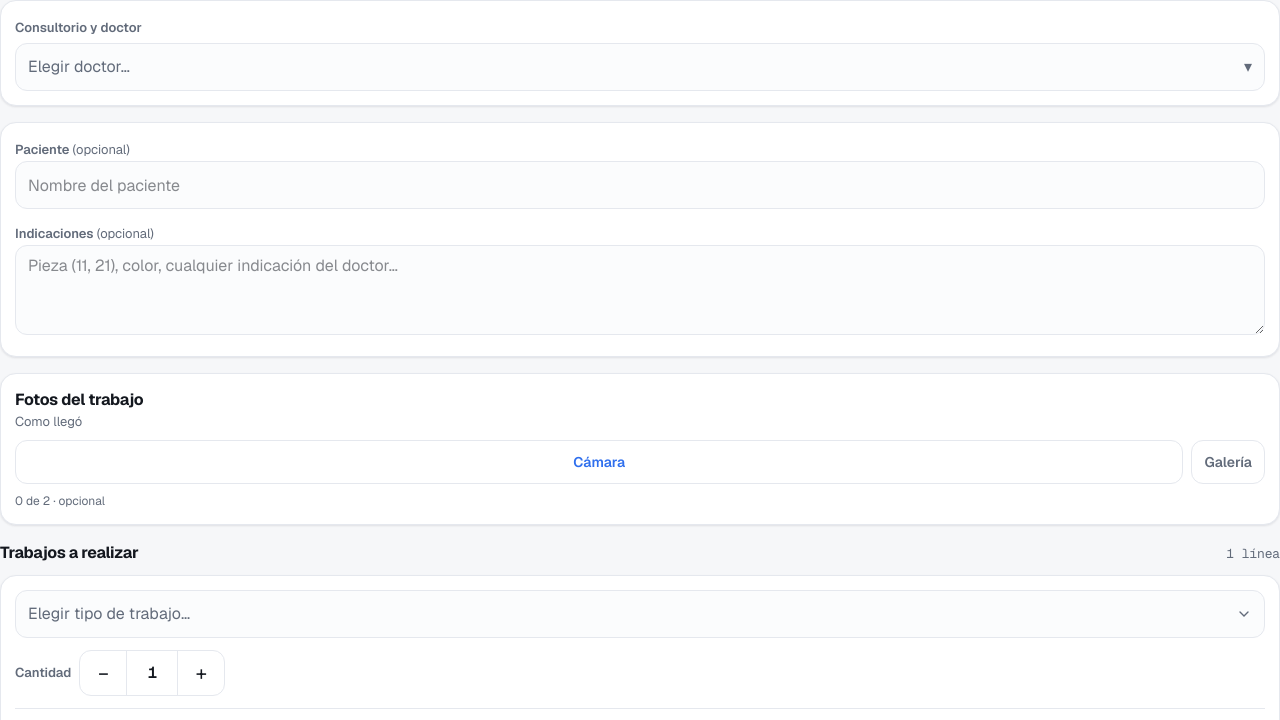
Test: TrabajoForm — elegir doctor › busca, elige y deja el doctor seleccionado
Expected: the element named "doctor_id" is empty, [0,0,1279,106]
Click the button "Elegir doctor… ▾": (79, 66) [15,43,1265,91]
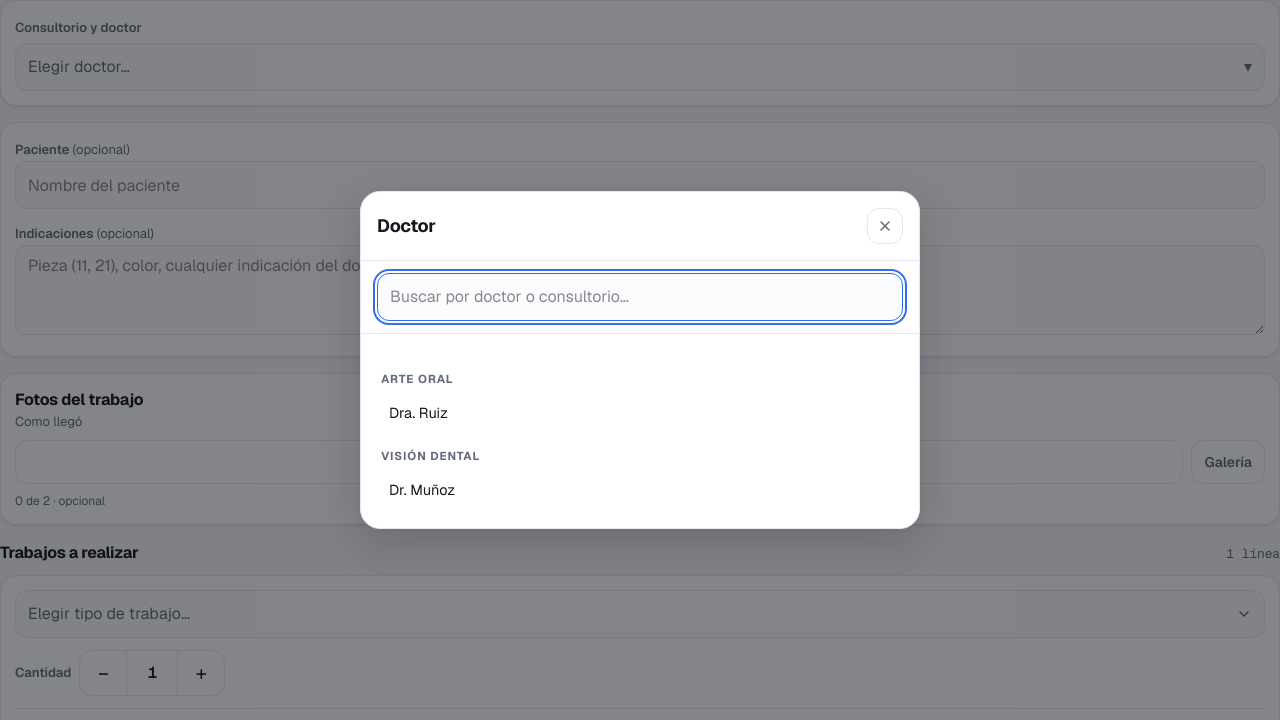
In the field named "buscar doctor": (640, 297) [377,273,903,321], type "munoz"
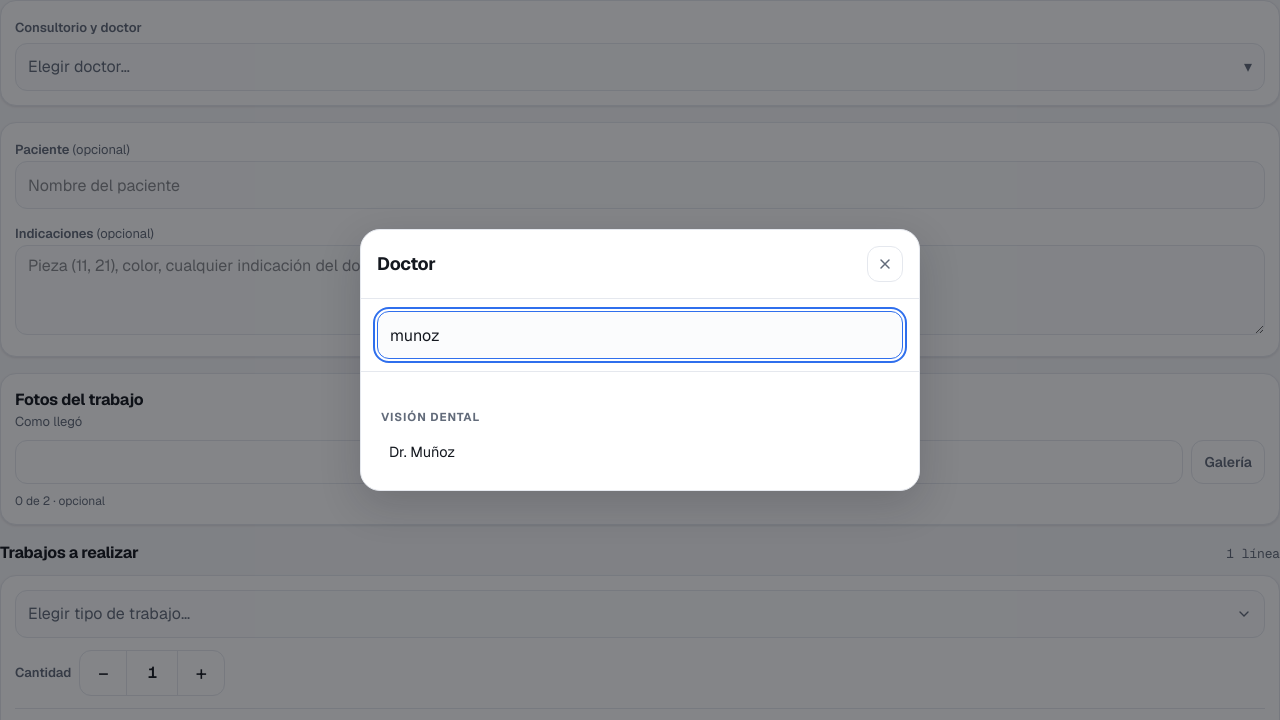
Click the button "Dr. Muñoz": (422, 451) [377,430,903,474]
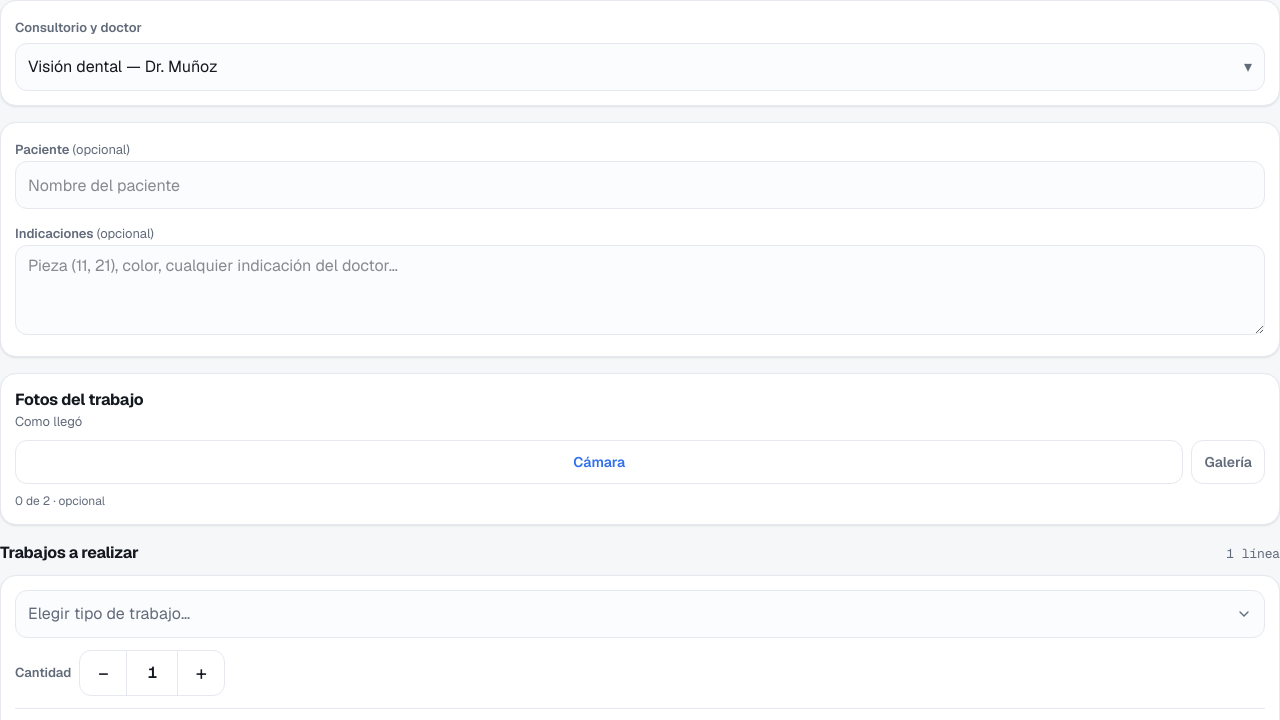
Expected: the element named "doctor_id" holds "d2", [0,0,1279,106]
Expected: the field labelled "buscar doctor" is gone
Expected: the button "Visión dental — Dr. Muñoz ▾" is shown, [15,43,1265,91]
